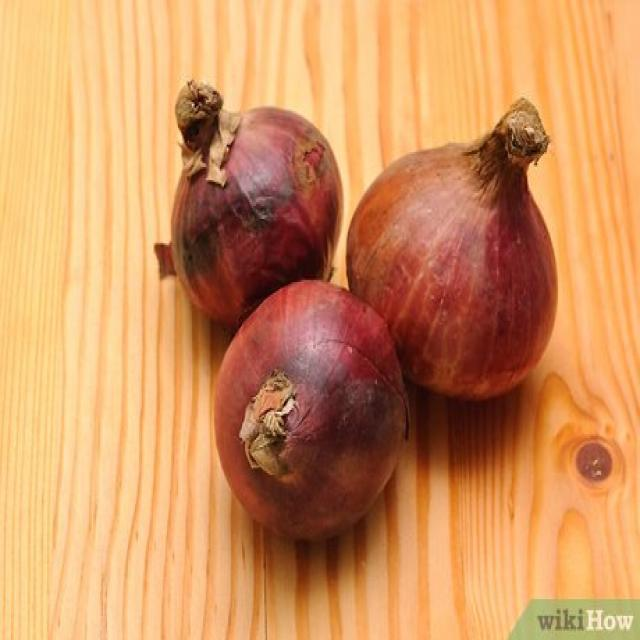Onion: (348, 96, 559, 405), (214, 282, 414, 547), (155, 81, 345, 332)
